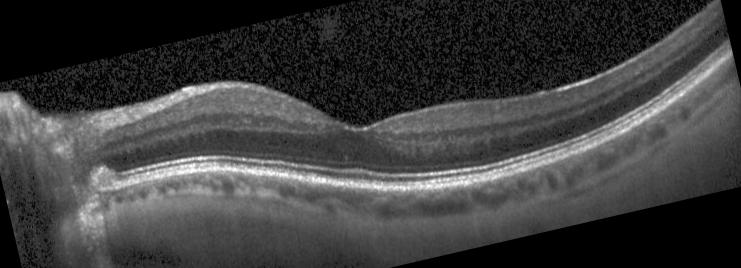retinal_drusen: (89, 166, 119, 194)
